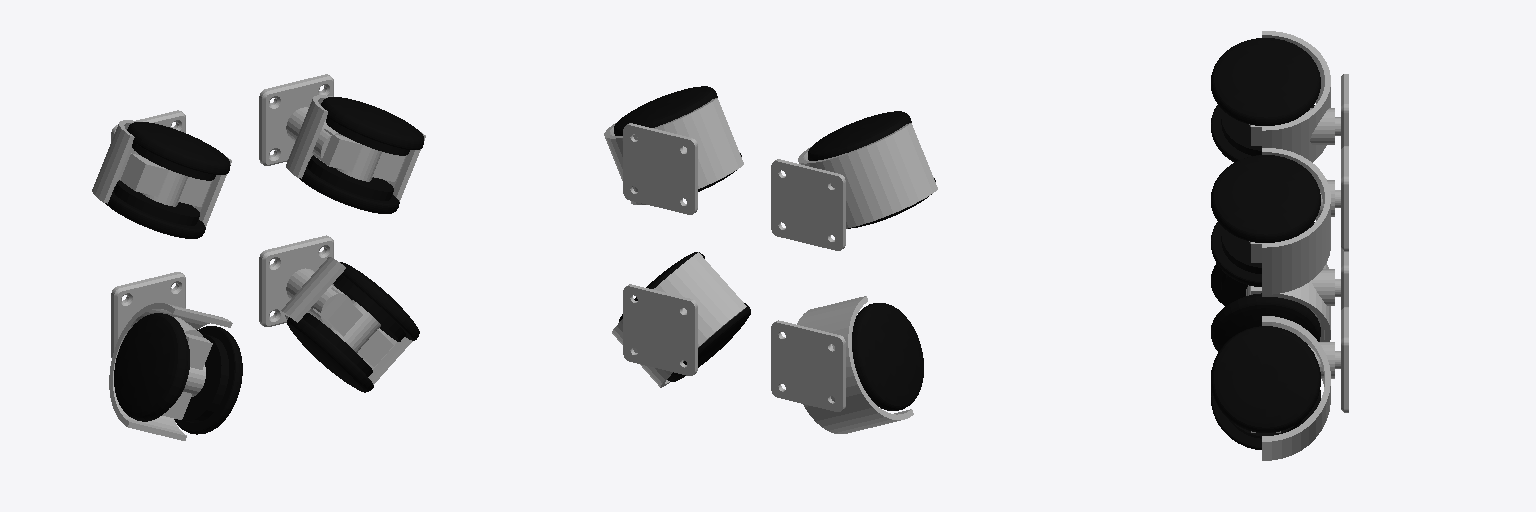
File: ofc007.obj
3 renders of one model, left to right at view 1: azimuth 30°, elevation 25°; view 2: azimuth 150°, elevation 25°; view 3: azimuth 270°, elevation 25°, orthographic.
Visible parts, largest first — view 1: Line16, Rectangle7, Rectangle2, Line13, Line15, Rectangle4, Arc09, Arc06, Arc08, Arc07, Line18, Circle121 (+20 smaller); view 2: Arc06, Line16, Rectangle1, Rectangle7, Rectangle4, Rectangle2, Arc09, Arc08, Arc07, Line13, Line15, Line18; view 3: Line19, Line13, Line15, Arc07, Arc06, Line17, Arc08, Arc09, Line14, Circle114, Circle109, Line18 (+7 smaller).
Part boxes in pixels (x1,y1,x2,y2): Line16: (114, 313, 187, 421); Rectangle7: (259, 235, 333, 326); Rectangle2: (259, 74, 333, 165); Line13: (127, 122, 230, 174); Line15: (321, 97, 423, 149); Rectangle4: (111, 272, 185, 357); Arc09: (109, 303, 232, 440); Arc06: (92, 120, 231, 226); Arc08: (280, 257, 412, 384); Arc07: (286, 95, 425, 201); Line18: (287, 317, 373, 392); Circle121: (182, 334, 228, 422); Arc06: (798, 123, 937, 228); Line16: (852, 303, 923, 410); Rectangle1: (771, 159, 845, 250); Rectangle7: (623, 284, 697, 375); Rectangle4: (771, 320, 845, 411); Rectangle2: (623, 123, 697, 214); Arc09: (797, 296, 913, 433); Arc08: (612, 252, 746, 387); Arc07: (604, 98, 743, 204); Line13: (808, 111, 911, 160); Line15: (614, 86, 717, 135); Line18: (667, 303, 750, 381); Line19: (1211, 326, 1320, 432); Line13: (1211, 38, 1320, 125); Line15: (1211, 155, 1320, 242); Arc07: (1262, 148, 1330, 294); Arc06: (1262, 31, 1330, 162); Line17: (1211, 295, 1320, 351); Arc08: (1262, 316, 1330, 460); Arc09: (1262, 263, 1330, 341); Line14: (1211, 222, 1314, 286); Circle114: (1221, 227, 1309, 273); Circle109: (1221, 110, 1261, 155); Line18: (1211, 389, 1320, 449).
Size of the model in its own units: 139 by 132 by 51.88.